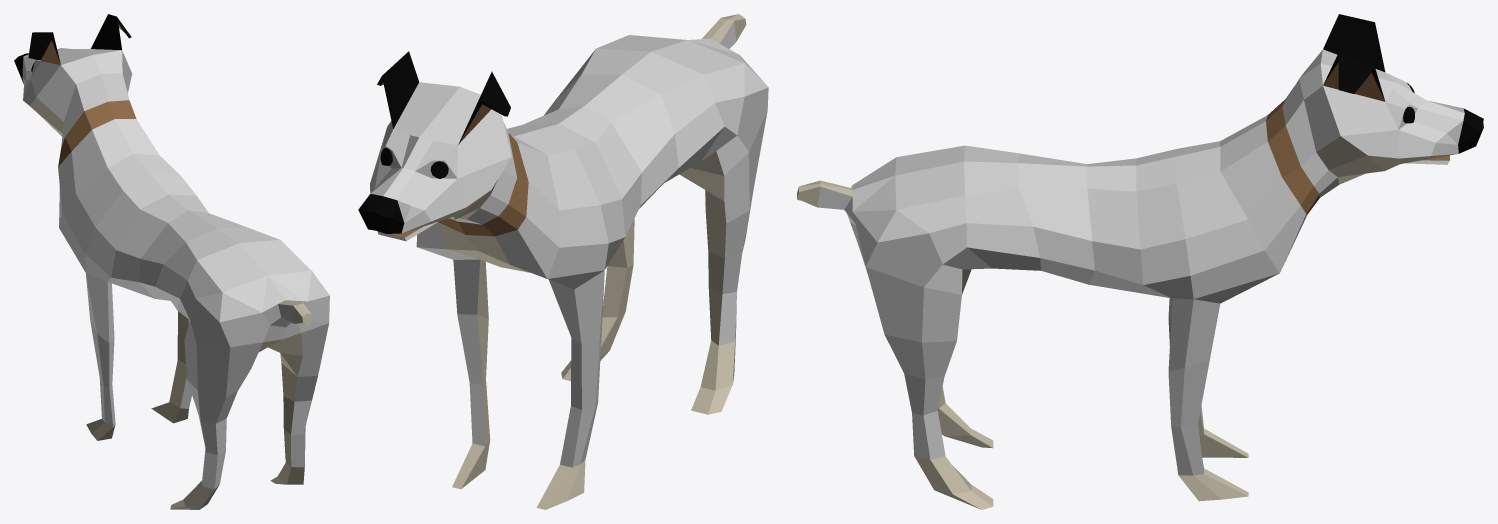
Rendered from Unity2Skfb.fbx.
3 renders of one model, left to right at view 1: azimuth 30°, elevation 25°; view 2: azimuth 150°, elevation 25°; view 3: azimuth 270°, elevation 25°, orthographic. The views are drawn at different scales.
Visible parts, largest first — view 1: luna-dog; view 2: luna-dog; view 3: luna-dog.
Part boxes in pixels (left/top/right/bottom): luna-dog: left=14, top=14, right=329, bottom=509; luna-dog: left=358, top=14, right=768, bottom=509; luna-dog: left=797, top=14, right=1483, bottom=509.
Size of the model in its own units: 188 by 530 by 745.
